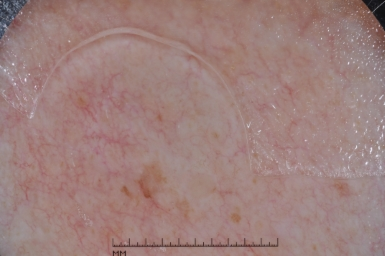melanoma: (139, 165, 166, 200)
